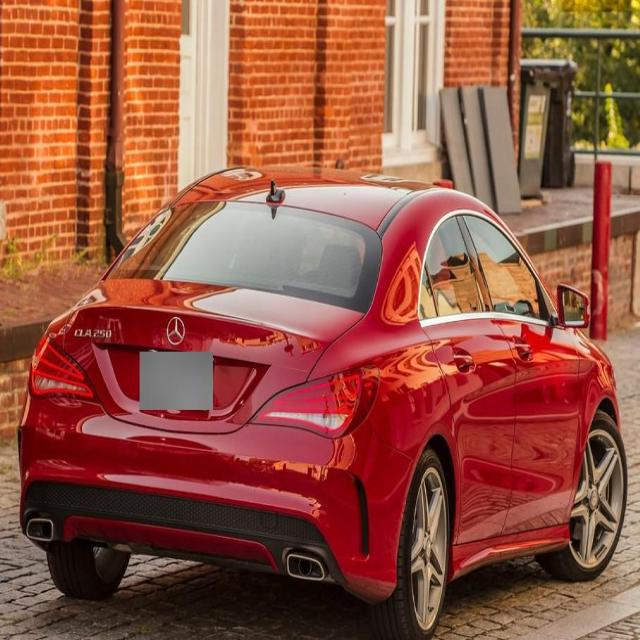back_glass: (103, 198, 383, 314)
back_left_side_light: (27, 326, 98, 405)
back_right_side_light: (247, 358, 381, 442)
door: (422, 210, 508, 543)
front_right_side_door: (460, 207, 584, 545)
front_right_side_mirror: (554, 280, 591, 335)
rear_bumper: (16, 393, 399, 605)
wheel: (370, 448, 450, 640), (541, 411, 628, 581), (46, 546, 133, 605)
